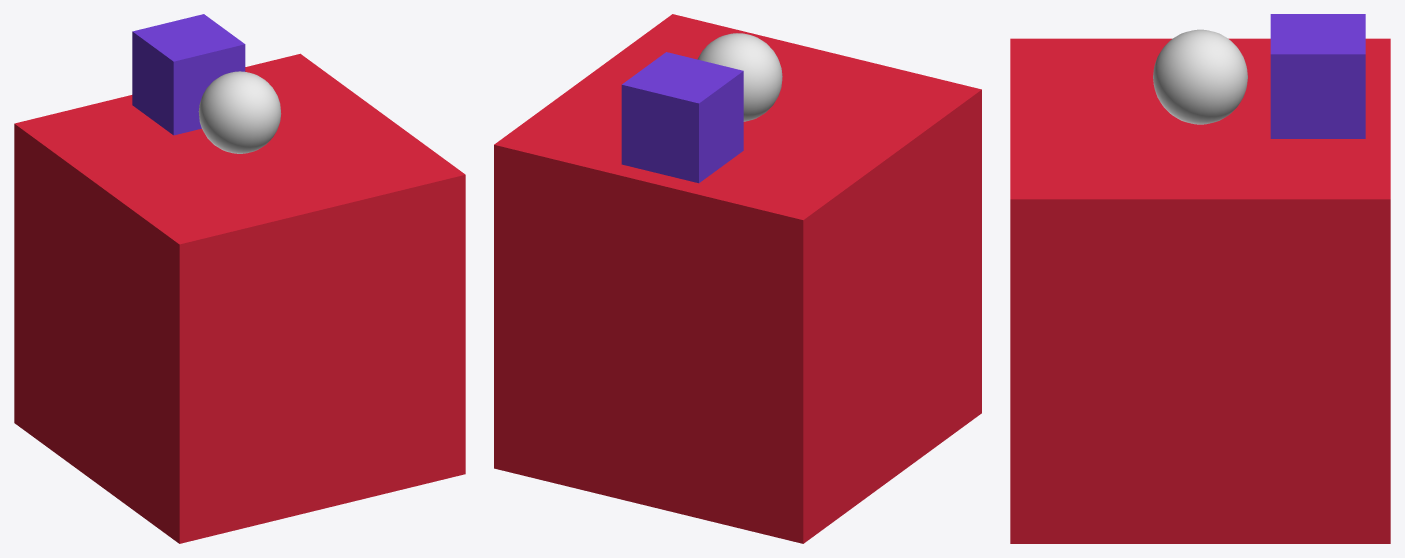
The model's file is esfera.gltf.
3 views of the same model, side by side, from view 1: azimuth 30°, elevation 25°; view 2: azimuth 150°, elevation 25°; view 3: azimuth 270°, elevation 25° (orthographic). The views are drawn at different scales.
Visible parts, largest first — view 1: Cube.001, Cube, Sphere; view 2: Cube.001, Cube, Sphere; view 3: Cube.001, Cube, Sphere.
Boxes of the visible parts, left/top/right/bottom form: Cube.001: left=14, top=53, right=465, bottom=543; Cube: left=132, top=14, right=245, bottom=135; Sphere: left=198, top=71, right=281, bottom=153; Cube.001: left=494, top=14, right=981, bottom=543; Cube: left=621, top=52, right=743, bottom=183; Sphere: left=697, top=33, right=782, bottom=121; Cube.001: left=1010, top=38, right=1390, bottom=543; Cube: left=1270, top=14, right=1365, bottom=138; Sphere: left=1153, top=29, right=1247, bottom=124.
Size of the model in its own units: 4 by 4.99 by 4.
